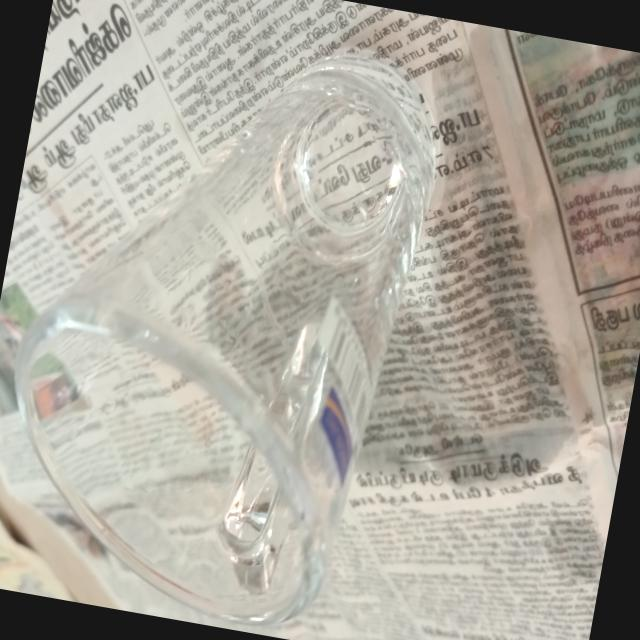glass-VX4N: (0, 2, 467, 640)
